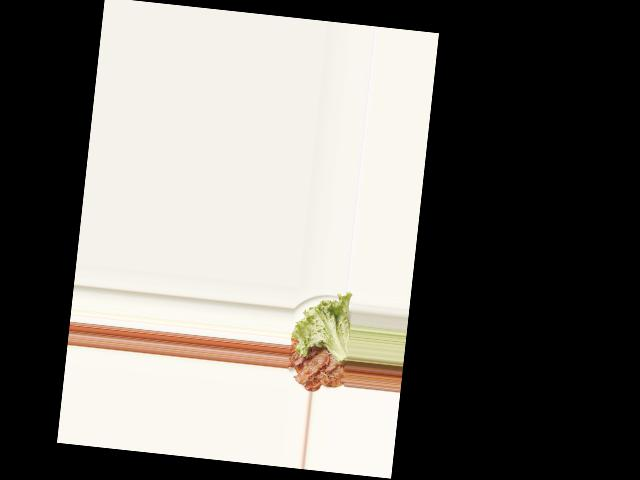lettuce: (291, 290, 354, 361)
